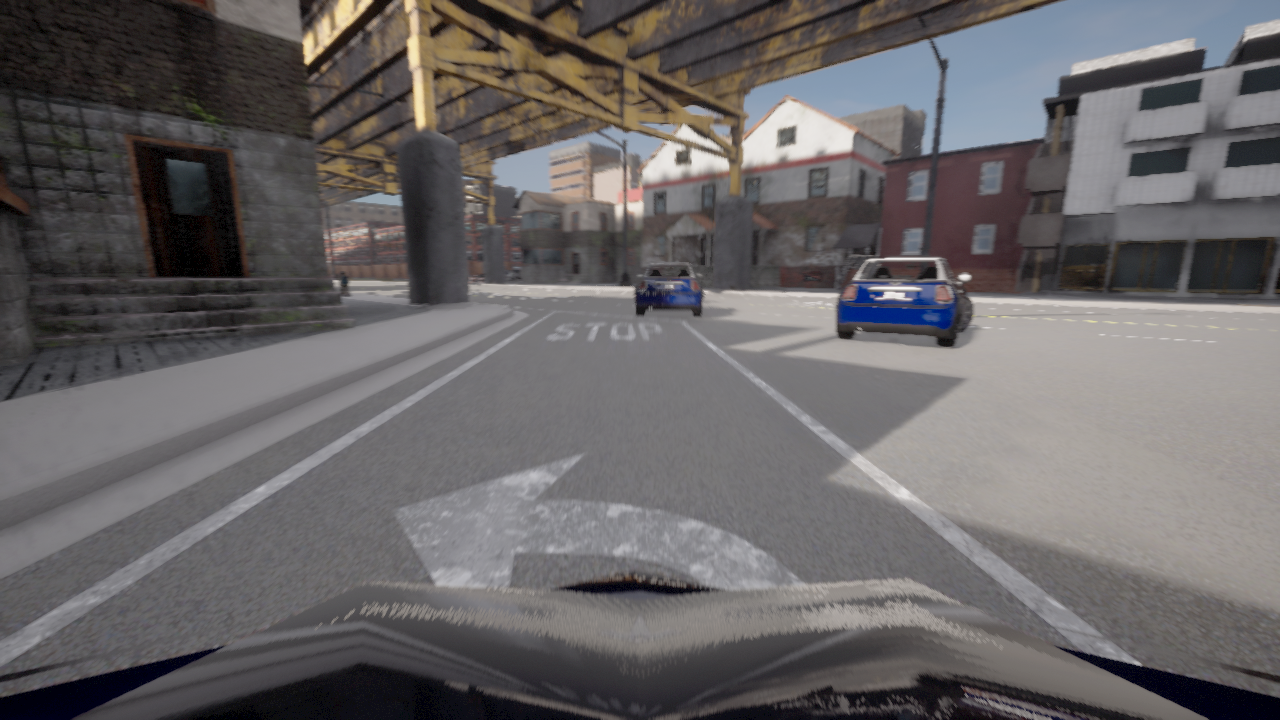cyclist: (0, 569, 1279, 719), (835, 257, 972, 347), (634, 263, 703, 317), (477, 270, 521, 281)
pedestrian: (340, 272, 348, 295)
